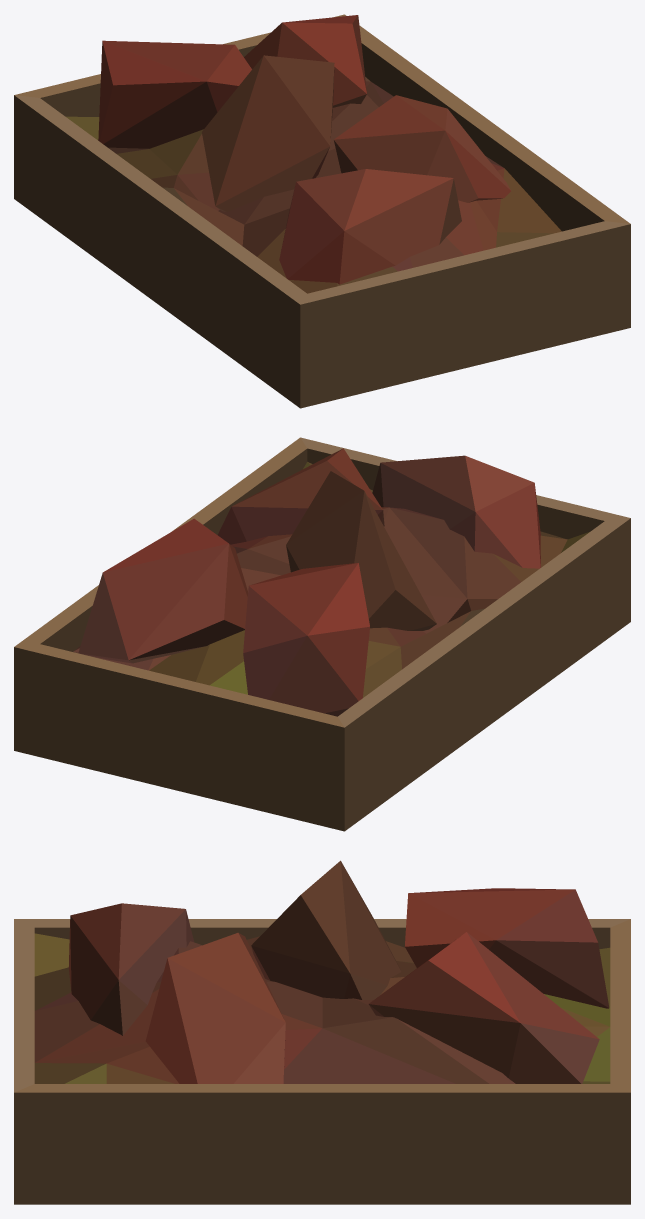
File: Prop_FoodBoxE.fbx
3 views of the same model, one above another, from view 1: azimuth 30°, elevation 25°; view 2: azimuth 150°, elevation 25°; view 3: azimuth 270°, elevation 25° (orthographic). The views are drawn at different scales.
Parts seen in each view (by area): view 1: Prop_FoodBoxE; view 2: Prop_FoodBoxE; view 3: Prop_FoodBoxE.
Part boxes in pixels (x1,y1,x2,y2): Prop_FoodBoxE: [14, 14, 630, 408]; Prop_FoodBoxE: [14, 437, 630, 831]; Prop_FoodBoxE: [14, 860, 630, 1204].
Size of the model in its own units: 50 by 30.94 by 75.
